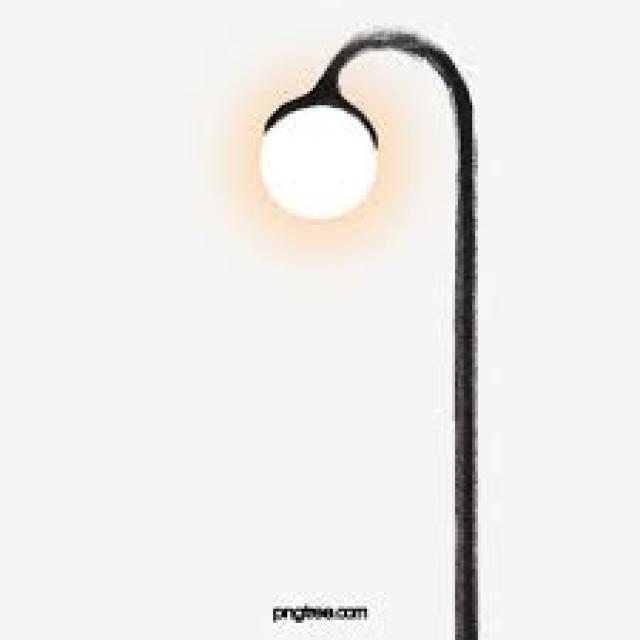Street Light: (264, 28, 480, 640)
